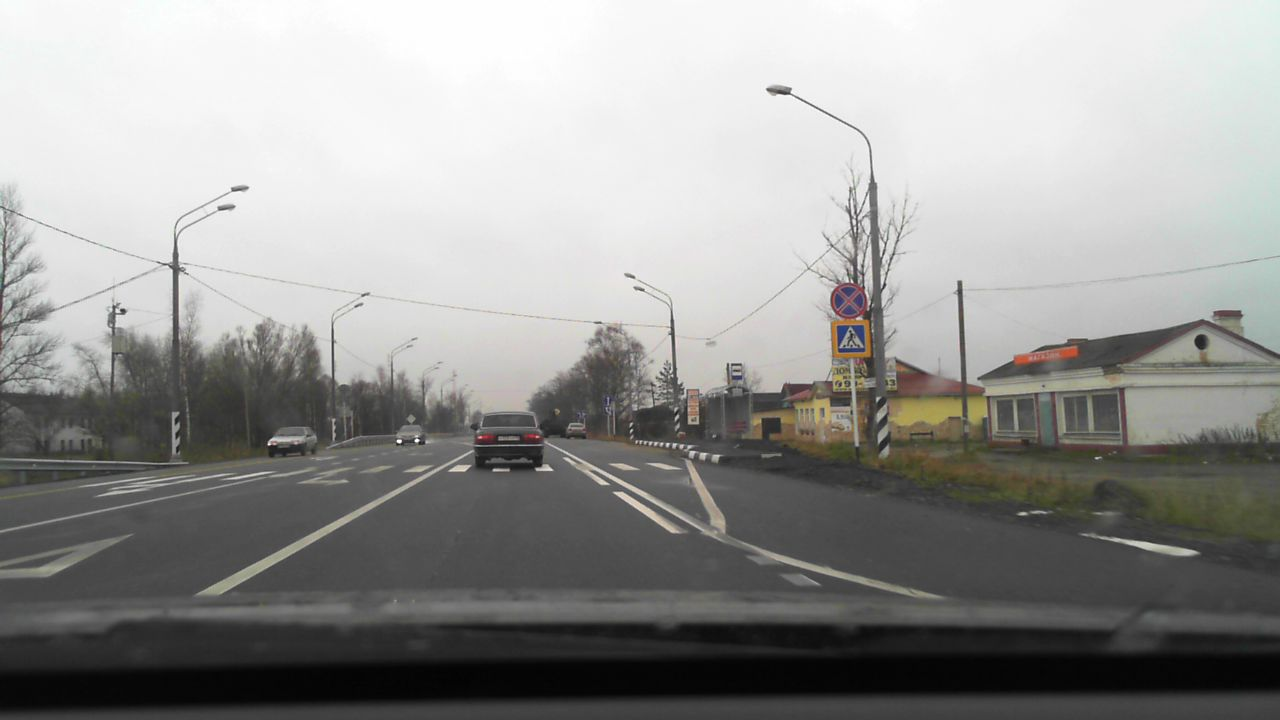No Parking: (830, 282, 867, 319)
